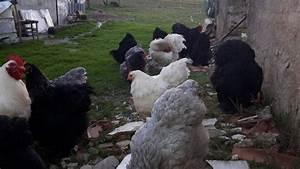hen: (133, 78, 221, 169), (0, 56, 46, 169), (121, 57, 194, 116)
